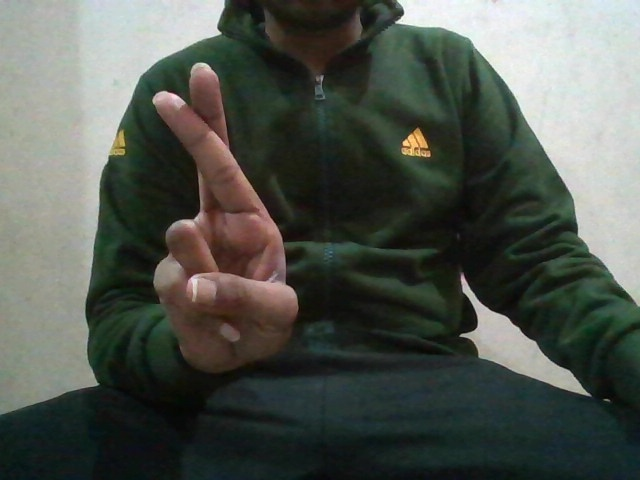R: (147, 66, 314, 369)
